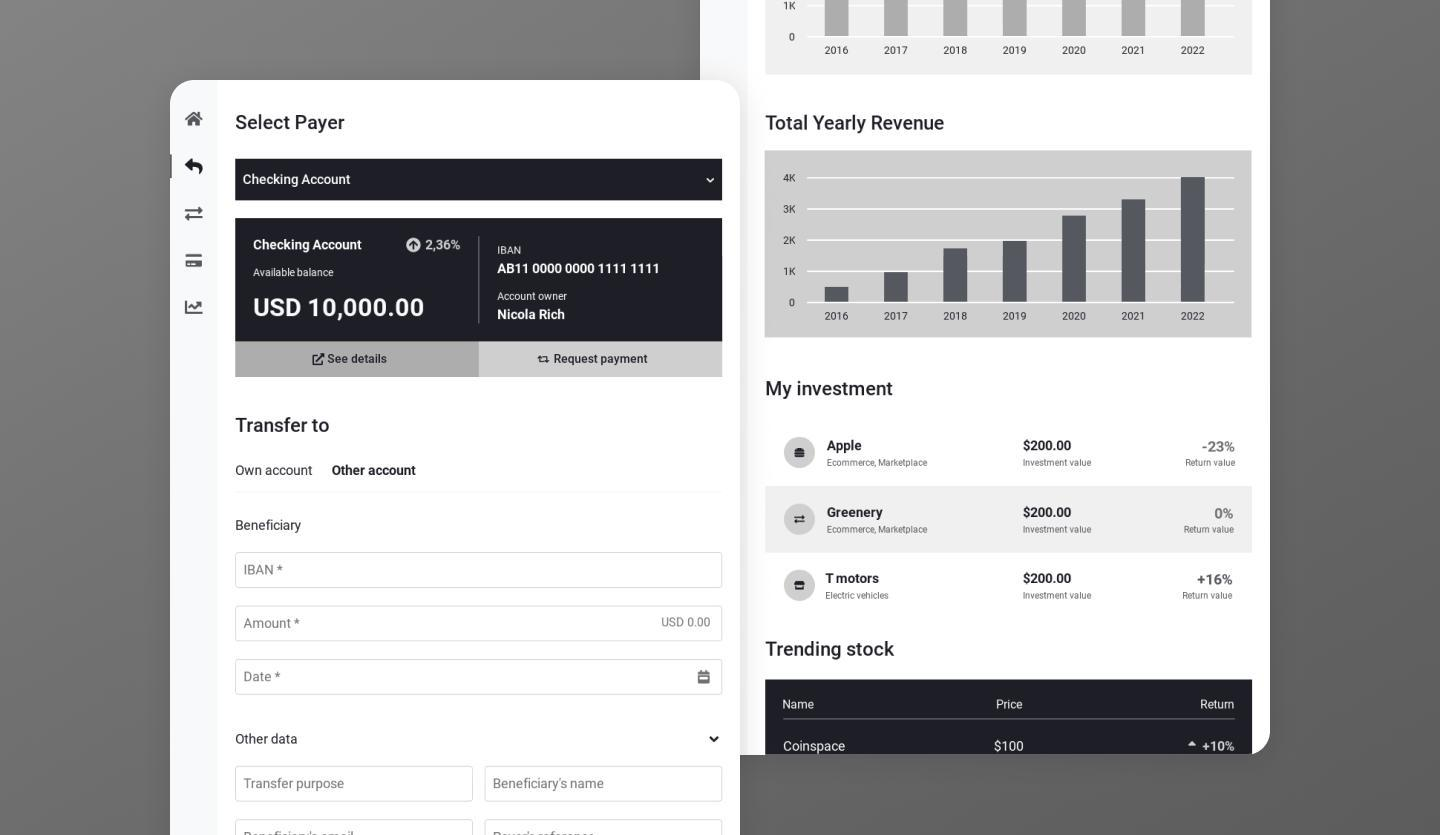button: (479, 344, 723, 378), (235, 344, 479, 377)
icon: (180, 293, 211, 322), (179, 198, 208, 227), (177, 248, 206, 276), (180, 155, 205, 183), (181, 109, 209, 131)
input: (236, 605, 723, 642), (238, 659, 724, 695), (237, 553, 722, 589), (236, 766, 475, 804), (485, 768, 725, 802)
